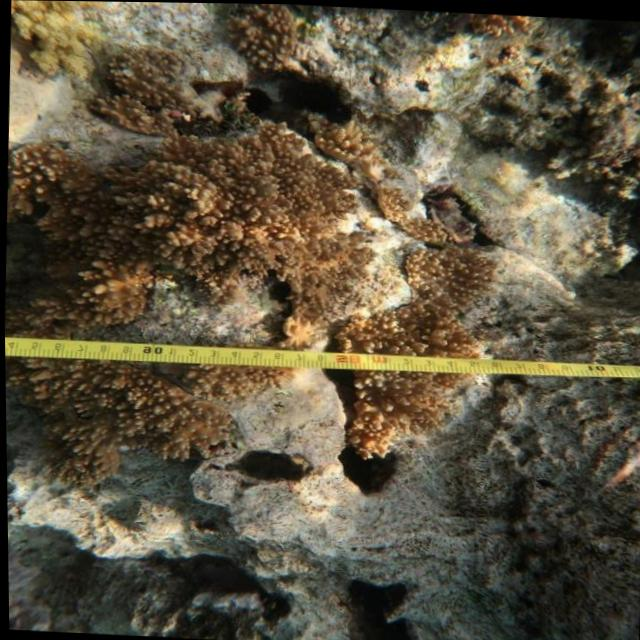Healthy Coral: (1, 118, 346, 338), (4, 337, 237, 471), (351, 276, 471, 451), (355, 177, 484, 245), (198, 2, 322, 70), (108, 37, 194, 135), (391, 241, 504, 307)
